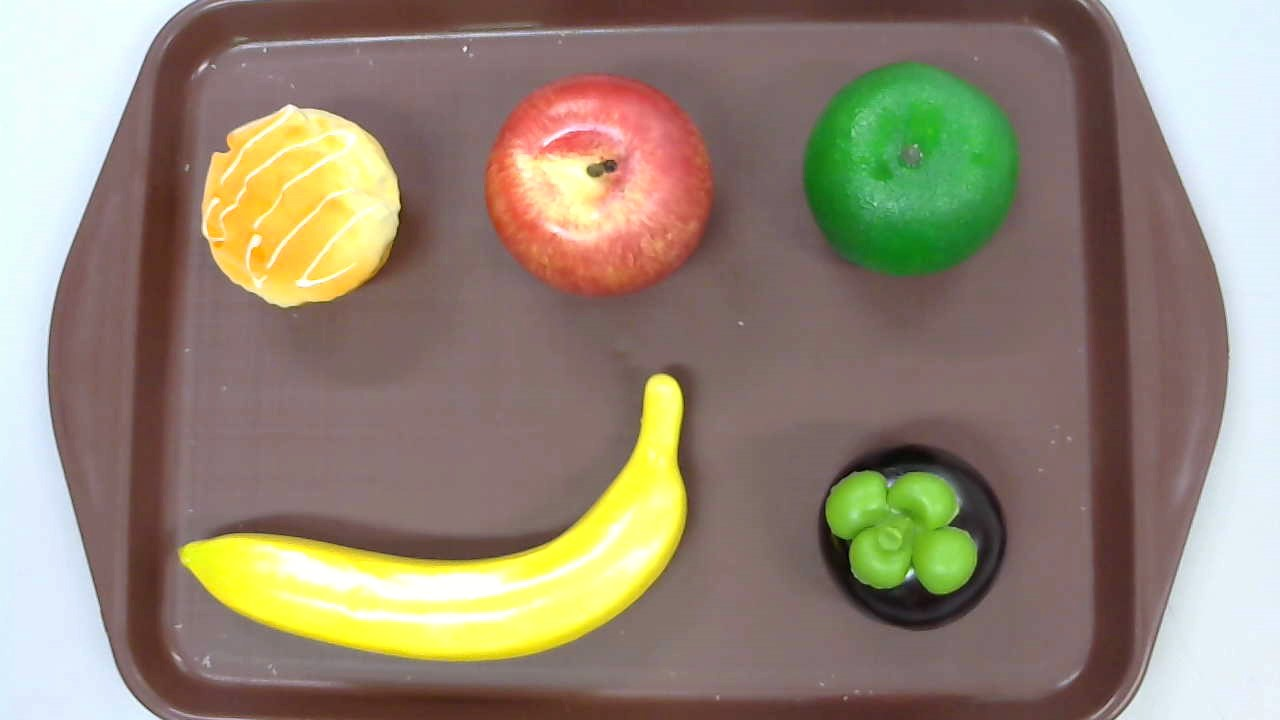banana: (176, 374, 687, 667)
cupcake: (200, 103, 401, 309)
green orange: (803, 62, 1021, 278)
mangosteen: (818, 445, 1006, 632)
red apple: (484, 72, 716, 297)
